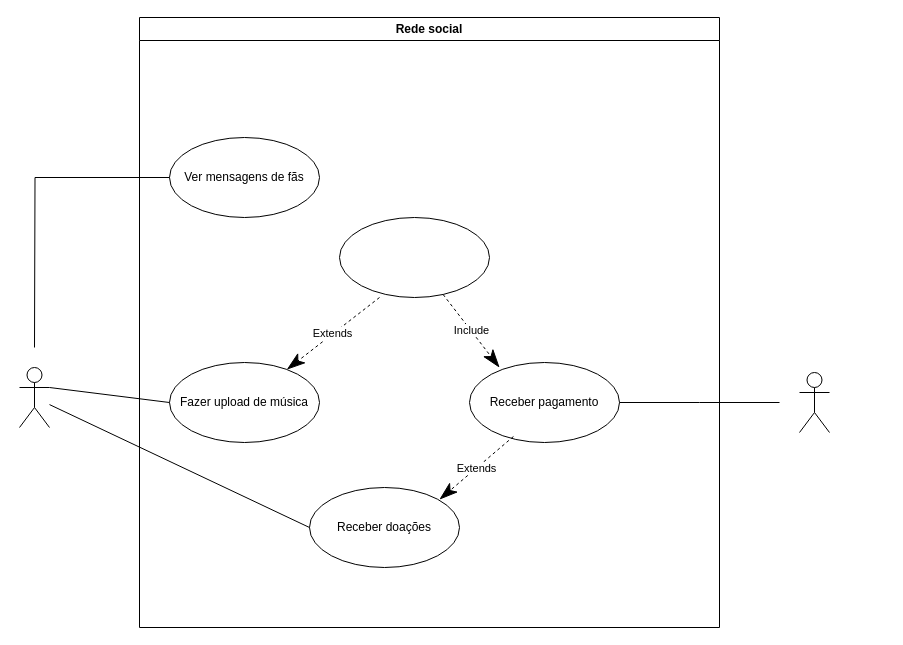
Some shapes in this 903 by 645 pixel diagram are drawn without their labels. Here are the shapes that lost their labels. From the top down, the centre of each, then its label:
(x=414, y=257): Monetizar músicas
(x=34, y=397): Artista
(x=814, y=402): Plataforma de pagamentos
